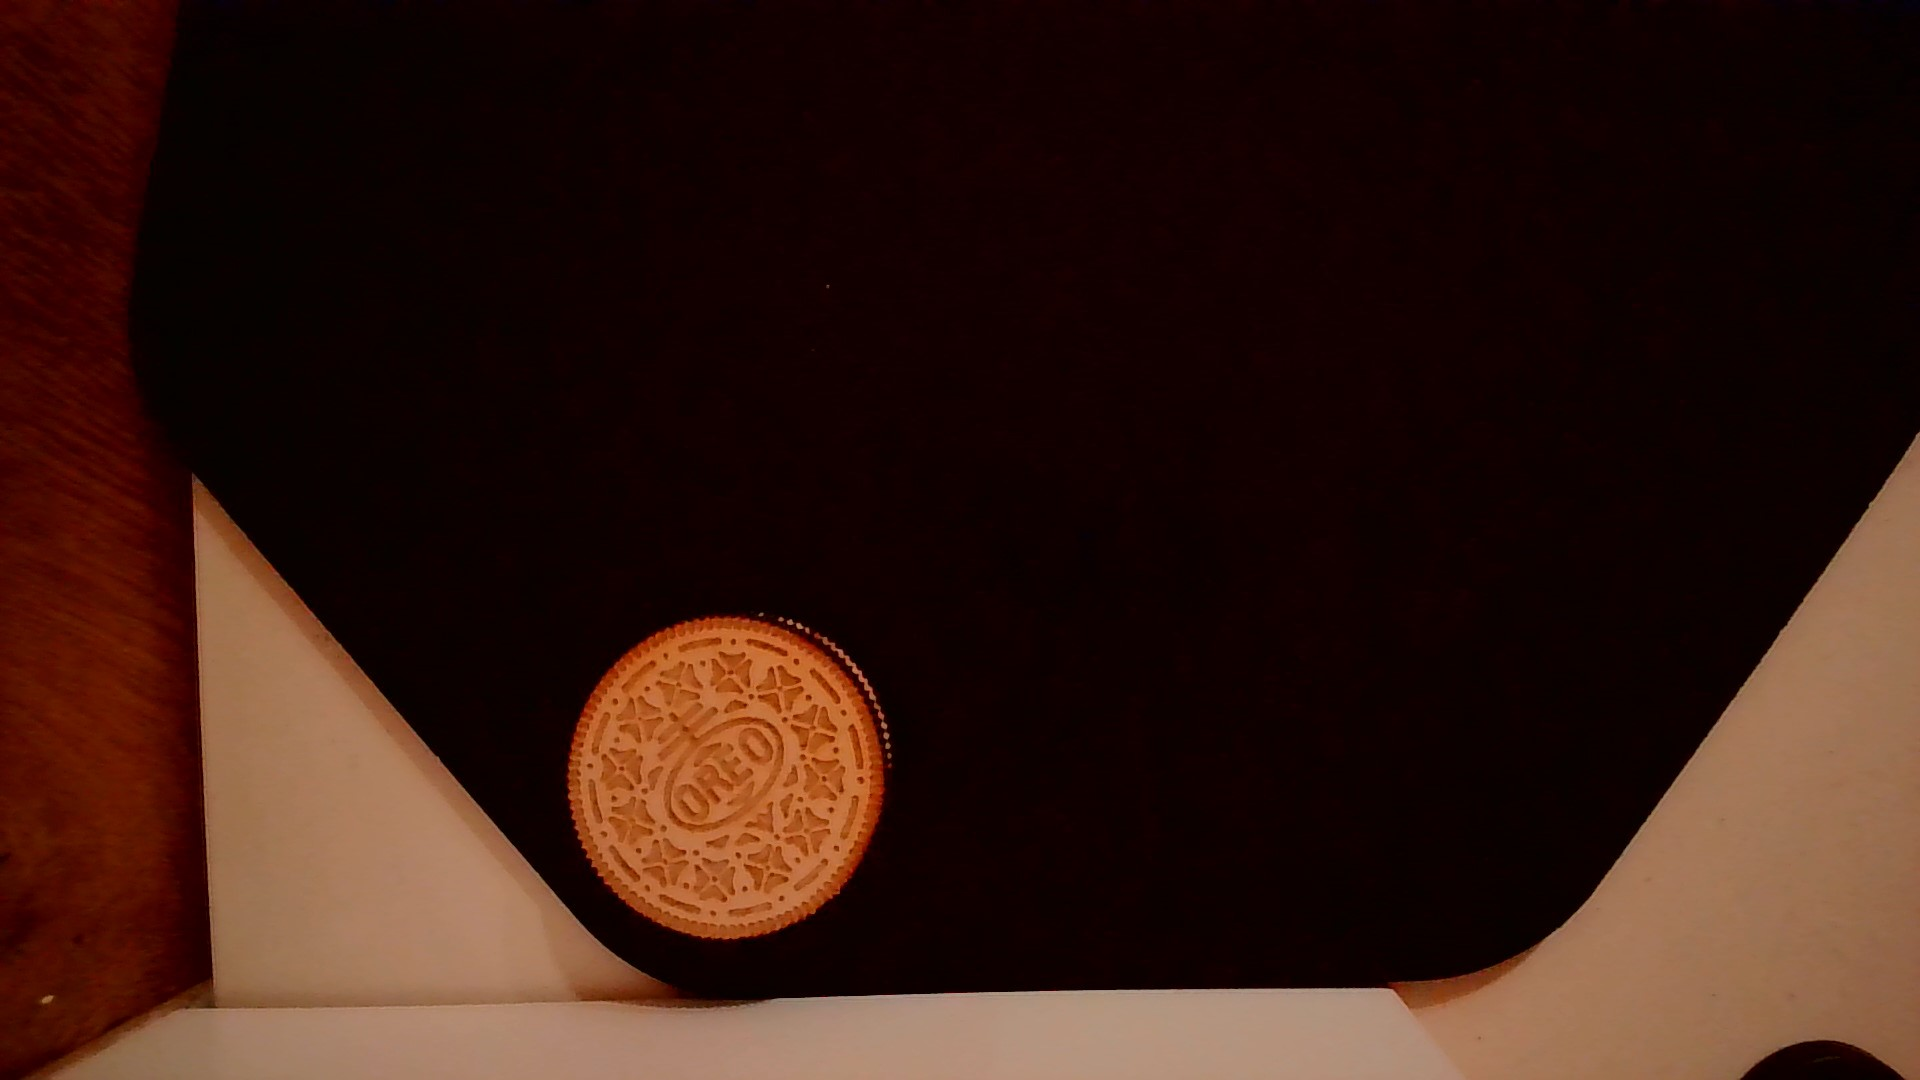Oréo: (559, 595, 899, 955)
